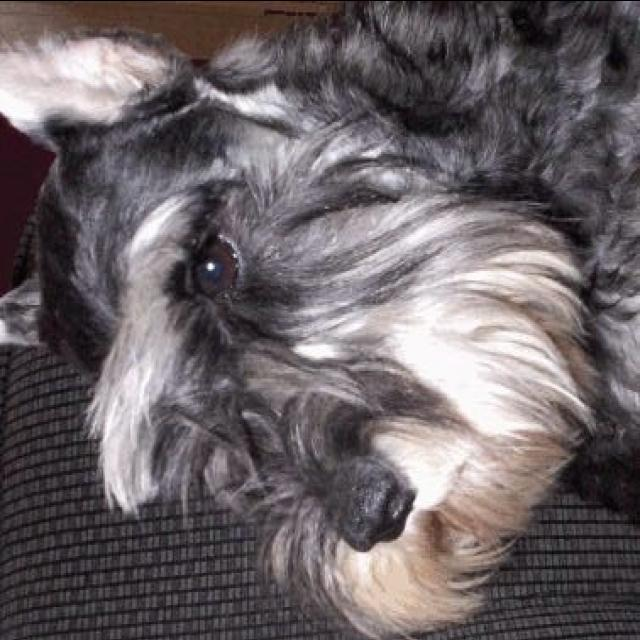standard_schnauzer: (0, 2, 638, 638)
